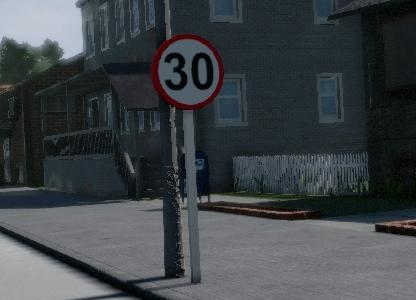Speed_30: (148, 29, 224, 112)
